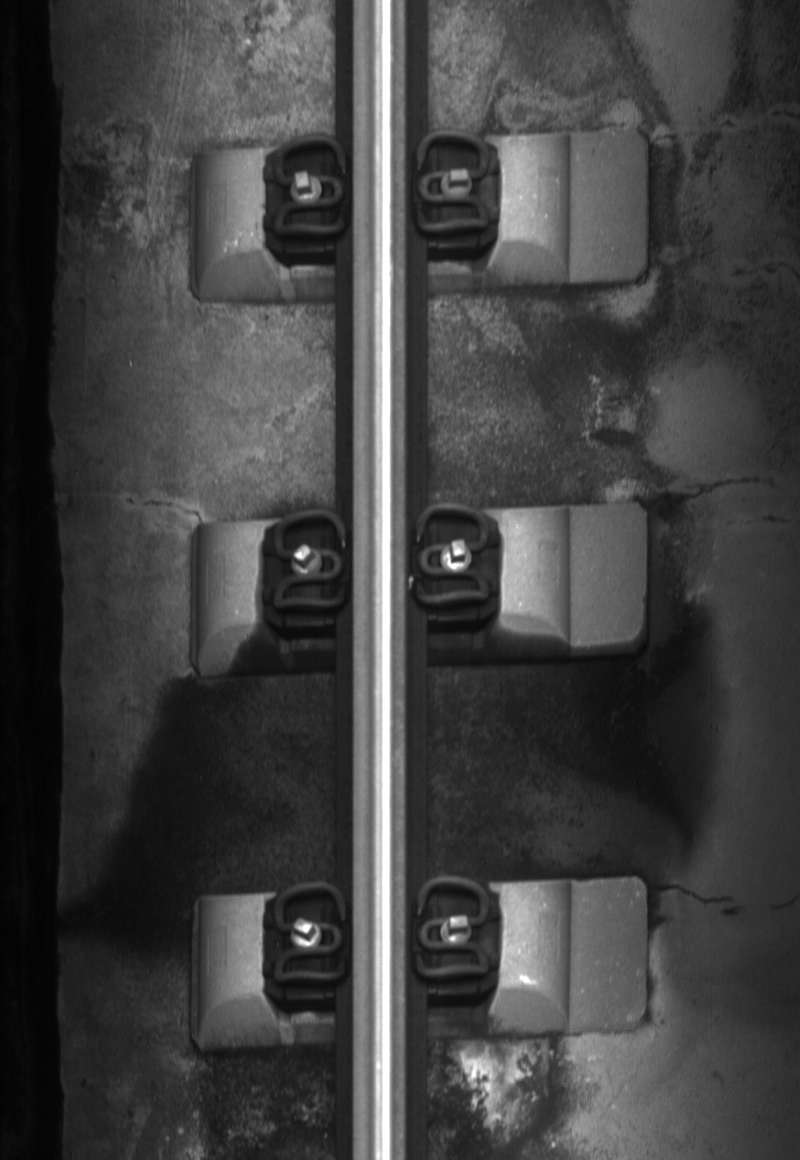l_faster: (264, 500, 349, 623), (269, 876, 351, 991), (269, 131, 352, 244)
r_faster: (408, 496, 495, 614), (410, 868, 492, 985), (411, 128, 492, 237)
